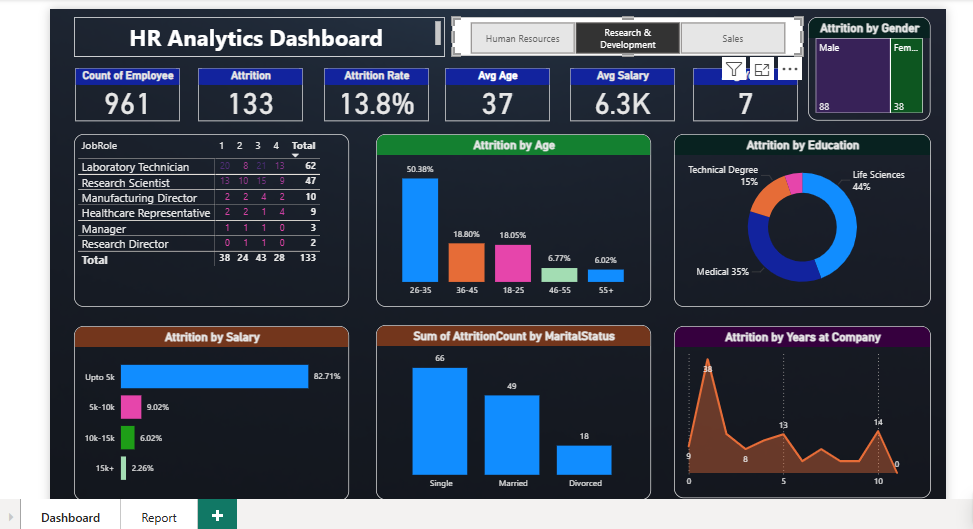

Layout of this report page (visuals, bound fields, positions):
{"tool":"powerbi","page":{"name":"Dashboard","canvas":[1280,720],"ordinal":0},"visuals":[{"type":"card","title":"Count of Employee","fields":{"Values":["CountNonNull(HR_Analytics.EmpID)"]},"box":[35.3,84,149.5,75.6],"z":0},{"type":"card","title":"Attrition","fields":{"Values":["Sum(HR_Analytics.AttritionCount)"]},"box":[211.7,84,149.5,75.6],"z":1000},{"type":"card","title":"Attrition Rate","fields":{"Values":["HR_Analytics.AttritionRate"]},"box":[391.4,84,149.5,75.6],"z":2000},{"type":"card","title":"Avg Age","fields":{"Values":["Avg(HR_Analytics.Age)"]},"box":[564.4,84,149.5,75.6],"z":3000},{"type":"card","title":"Avg Salary","fields":{"Values":["Avg(HR_Analytics.MonthlyIncome)"]},"box":[742.5,84,149.5,75.6],"z":4000},{"type":"card","title":"Avg Years","fields":{"Values":["Avg(HR_Analytics.YearsAtCompany)"]},"box":[918.8,84,149.5,75.6],"z":5000},{"type":"donutChart","title":"Attrition by Education","fields":{"Y":["Sum(HR_Analytics.AttritionCount)"],"Category":["HR_Analytics.EducationField","HR_Analytics.YearsAtCompany"]},"box":[891.6,179,366.8,247.3],"z":6000},{"type":"columnChart","title":"Attrition by Age","fields":{"Category":["HR_Analytics.AgeGroup"],"Y":["Sum(HR_Analytics.AttritionCount)"]},"box":[465.7,178.6,393.3,247.3],"z":7000},{"type":"pivotTable","fields":{"Rows":["HR_Analytics.JobRole"],"Columns":["HR_Analytics.JobSatisfaction"],"Values":["Sum(HR_Analytics.AttritionCount)"]},"box":[35,178.6,393.3,247.3],"z":8000},{"type":"barChart","title":"Attrition by Salary","fields":{"Category":["HR_Analytics.SalarySlab"],"Y":["Sum(HR_Analytics.AttritionCount)"]},"box":[35,452.4,393.3,249.7],"z":9000},{"type":"areaChart","title":"Attrition by Years at Company","fields":{"Category":["HR_Analytics.YearsAtCompany"],"Y":["Sum(HR_Analytics.AttritionCount)"]},"box":[891.6,452.4,366.8,246.1],"z":10000},{"type":"treemap","title":"Attrition by Gender","fields":{"Group":["HR_Analytics.Gender"],"Values":["Sum(HR_Analytics.AttritionCount)"]},"box":[1083.4,12.1,174.9,148.4],"z":11000},{"type":"slicer","fields":{"Values":["HR_Analytics.Department"]},"box":[574.5,11.8,500.6,55.4],"z":12000},{"type":"textbox","box":[35,12.1,529.6,56.7],"z":13000},{"type":"clusteredColumnChart","fields":{"Category":["HR_Analytics.MaritalStatus"],"Y":["Sum(HR_Analytics.AttritionCount)"]},"box":[466,452,393,250],"z":14000}]}

Visuals, with their boxes on the page's 1280x720 design canvas (x1, y1, x2, y2). These are canvas units, not pixel positions in the 973x529 screenshot, which may show the page scaled, cropped or inside an application window:
"Count of Employee" card: crop(35, 84, 185, 160)
"Attrition" card: crop(212, 84, 361, 160)
"Attrition Rate" card: crop(391, 84, 541, 160)
"Avg Age" card: crop(564, 84, 714, 160)
"Avg Salary" card: crop(742, 84, 892, 160)
"Avg Years" card: crop(919, 84, 1068, 160)
"Attrition by Education" donutChart: crop(892, 179, 1258, 426)
"Attrition by Age" columnChart: crop(466, 179, 859, 426)
pivotTable - HR_Analytics.JobRole x HR_Analytics.JobSatisfaction: crop(35, 179, 428, 426)
"Attrition by Salary" barChart: crop(35, 452, 428, 702)
"Attrition by Years at Company" areaChart: crop(892, 452, 1258, 698)
"Attrition by Gender" treemap: crop(1083, 12, 1258, 160)
slicer - HR_Analytics.Department: crop(574, 12, 1075, 67)
textbox: crop(35, 12, 565, 69)
clusteredColumnChart - HR_Analytics.MaritalStatus x Sum(HR_Analytics.AttritionCount): crop(466, 452, 859, 702)
